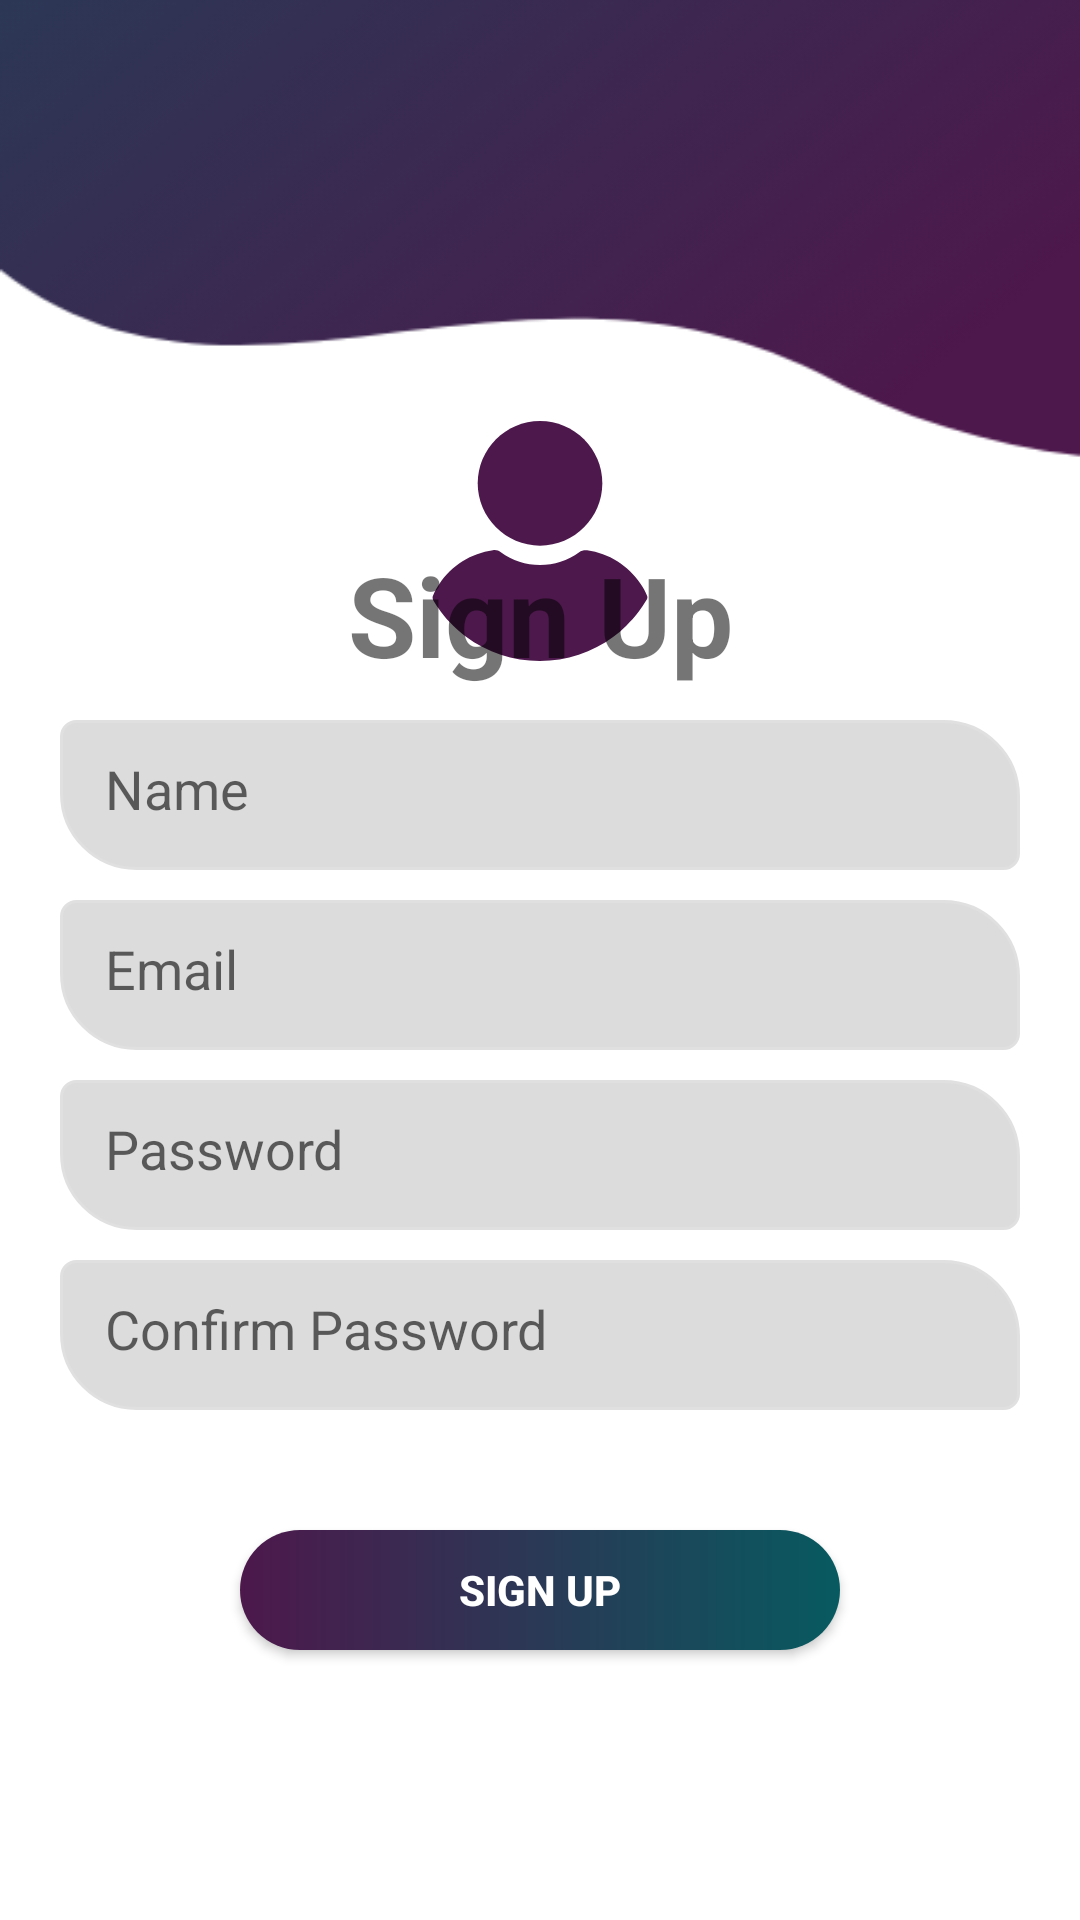

Icon click points for this 1080w x 1920h phone screenshot, format [x,y]:
user: [541,541]
